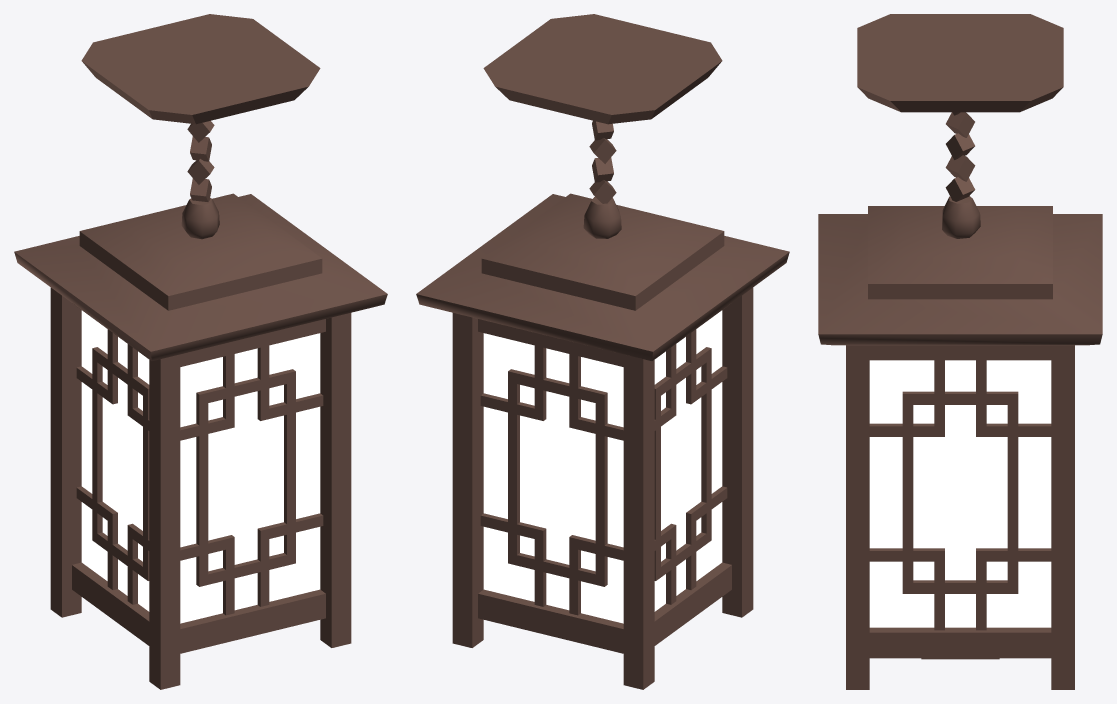
The model's file is Lamp.fbx.
The picture shows the model from 3 angles, left to right: view 1: azimuth 30°, elevation 25°; view 2: azimuth 150°, elevation 25°; view 3: azimuth 270°, elevation 25°; orthographic projection. The views are drawn at different scales.
Parts seen in each view (by area): view 1: LampCeiling; view 2: LampCeiling; view 3: LampCeiling.
Part boxes in pixels (x1=…): LampCeiling: x1=14, y1=14, x2=387, y2=689; LampCeiling: x1=416, y1=14, x2=789, y2=689; LampCeiling: x1=818, y1=14, x2=1102, y2=689.
Bounding box in the file's own units: 23.71 × 53.82 × 23.71.
